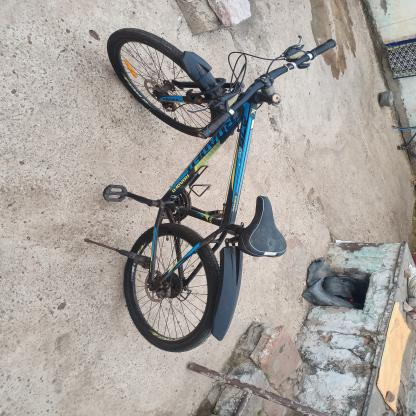bicycle: (91, 18, 349, 360)
